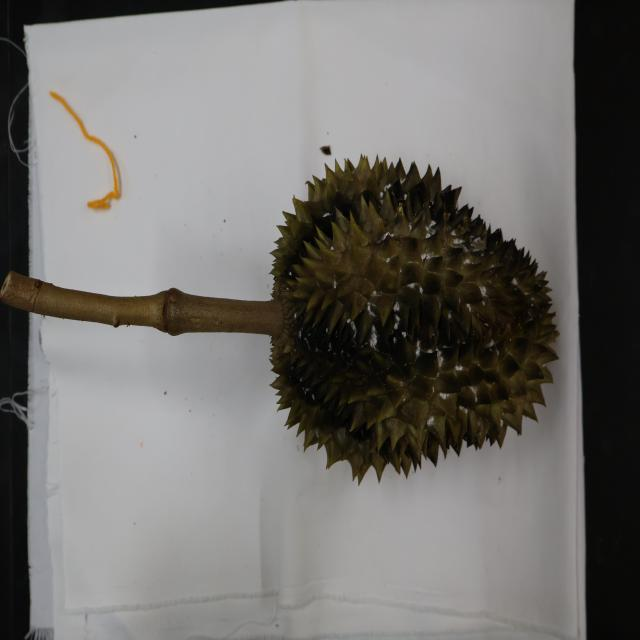defective: (273, 158, 557, 489)
